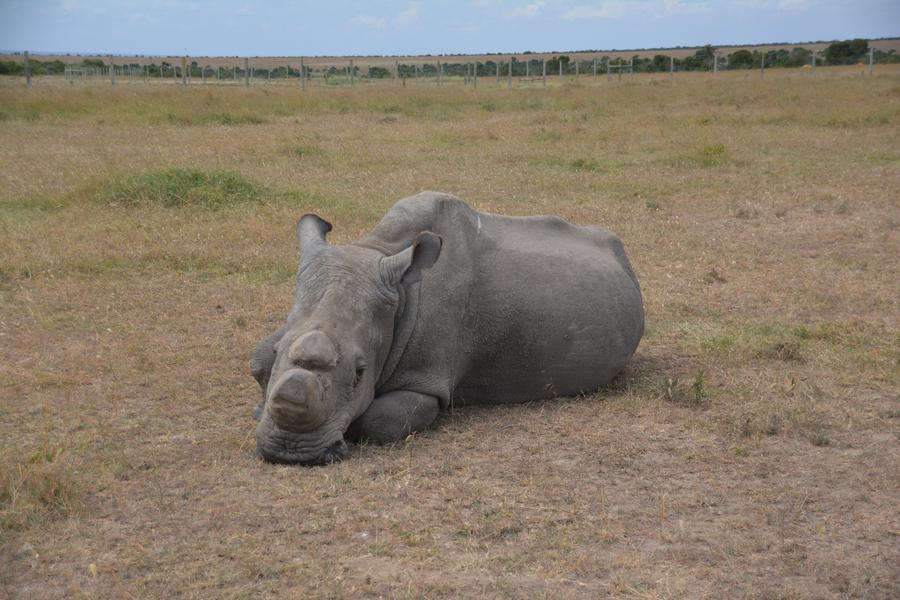rhino: (234, 194, 620, 452)
